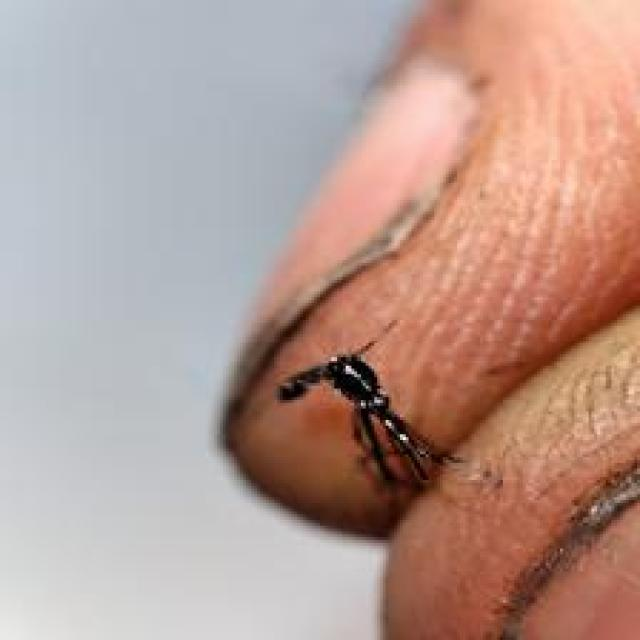Aedes albopictus: (274, 317, 457, 494)
